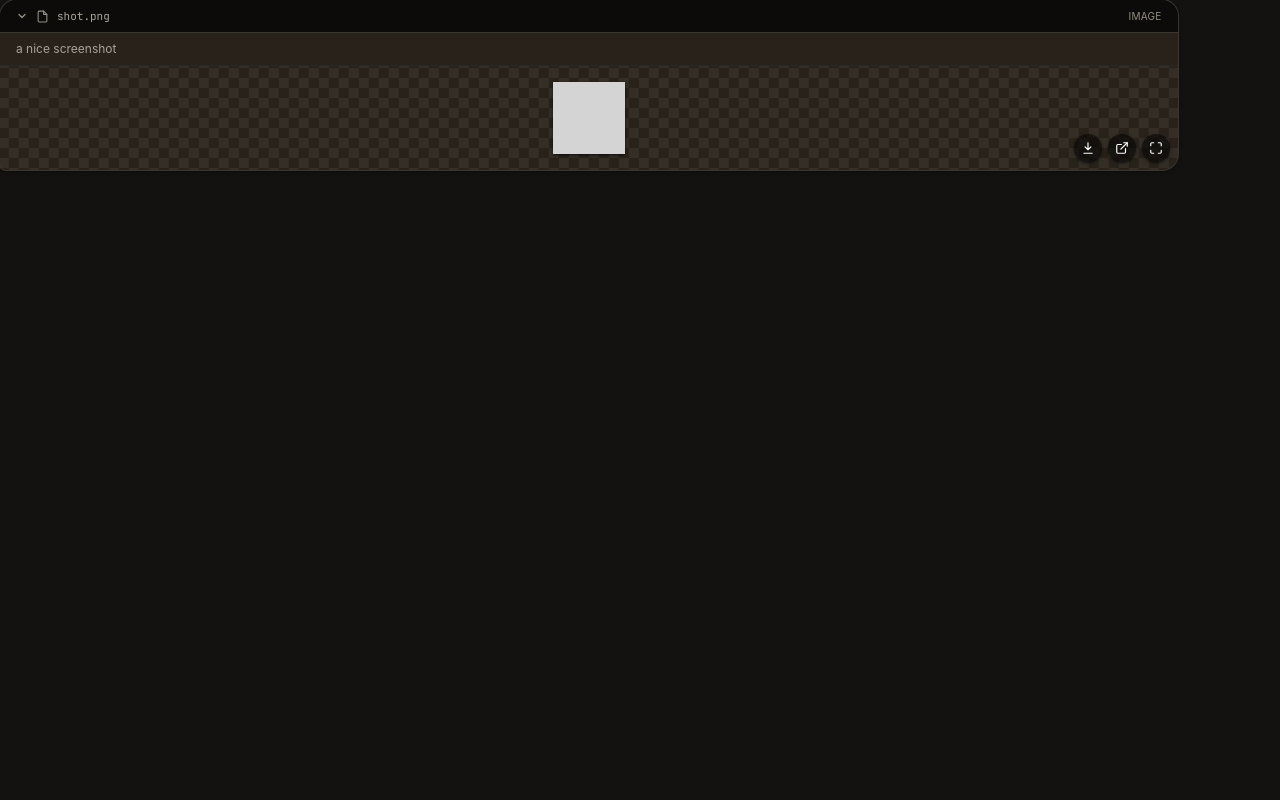
Test: media action bar + image lightbox (#137) › opens the lightbox on Maximize (image at rawUrl + filename/caption) and closes on Escape
Click the button named "maximize" at (1156, 148), box [1142,134,1170,162]
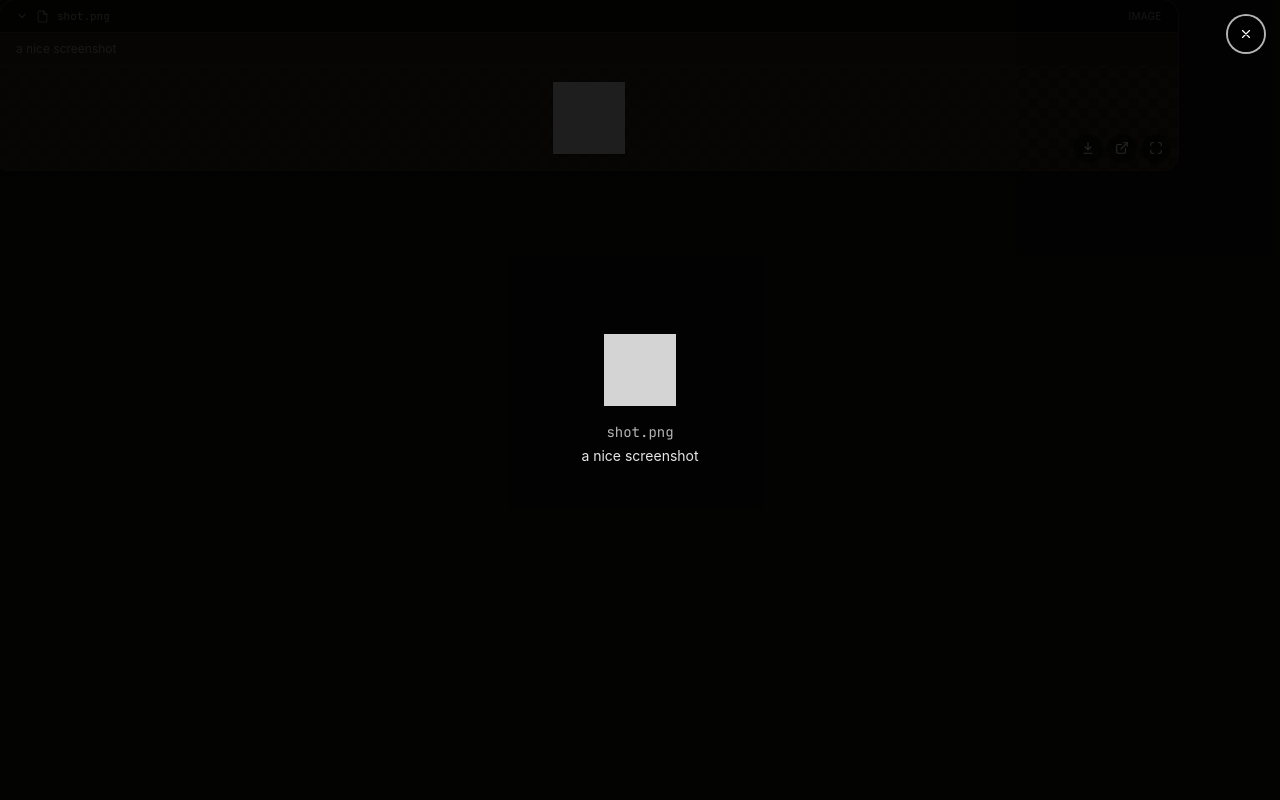
Check: the dialog is shown
Check: the text "shot.png" is shown, box [606,423,674,441]
Check: the text "a nice screenshot" is shown, box [581,446,699,466]
Press Escape
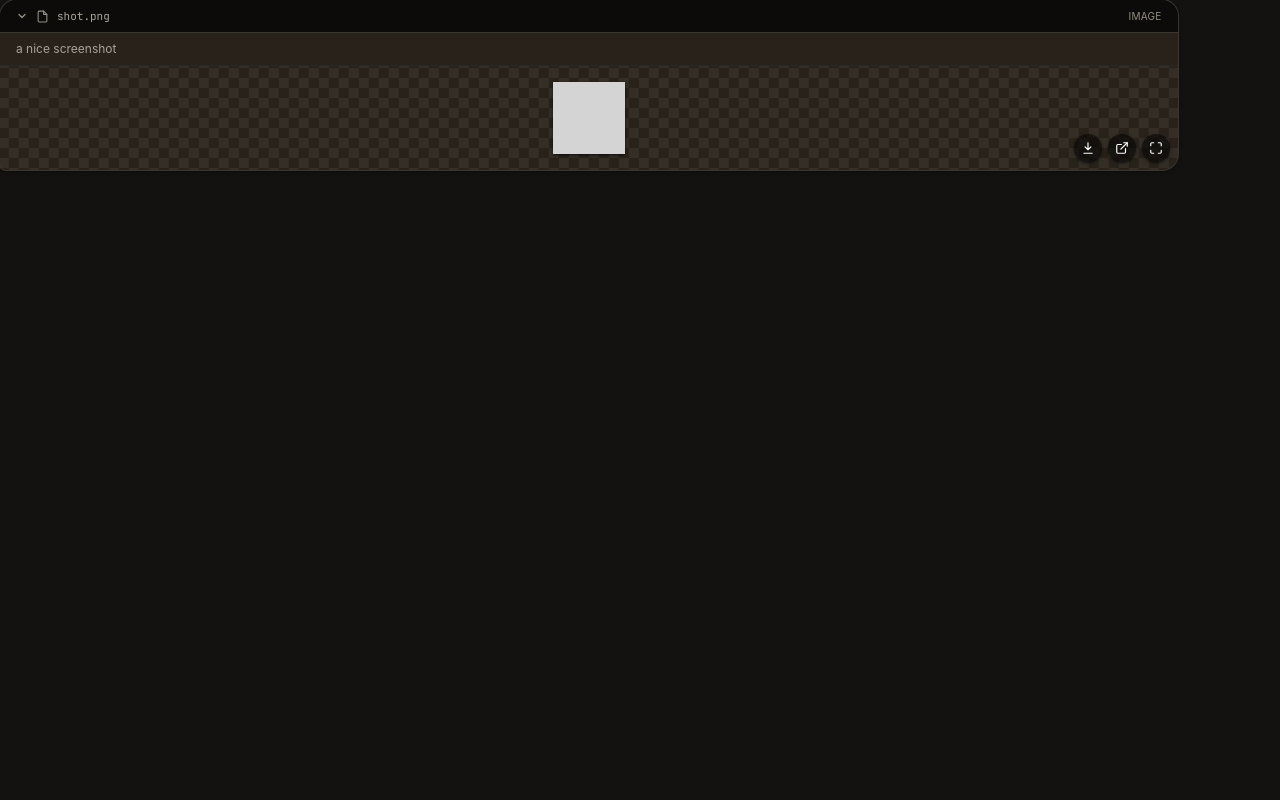
Check: the dialog is gone
